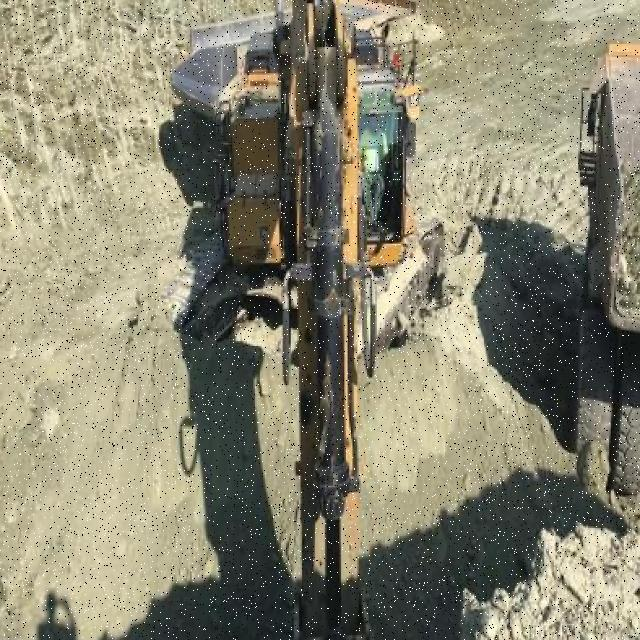Dump Truck: (572, 39, 640, 531)
Excavator: (161, 0, 447, 640)
